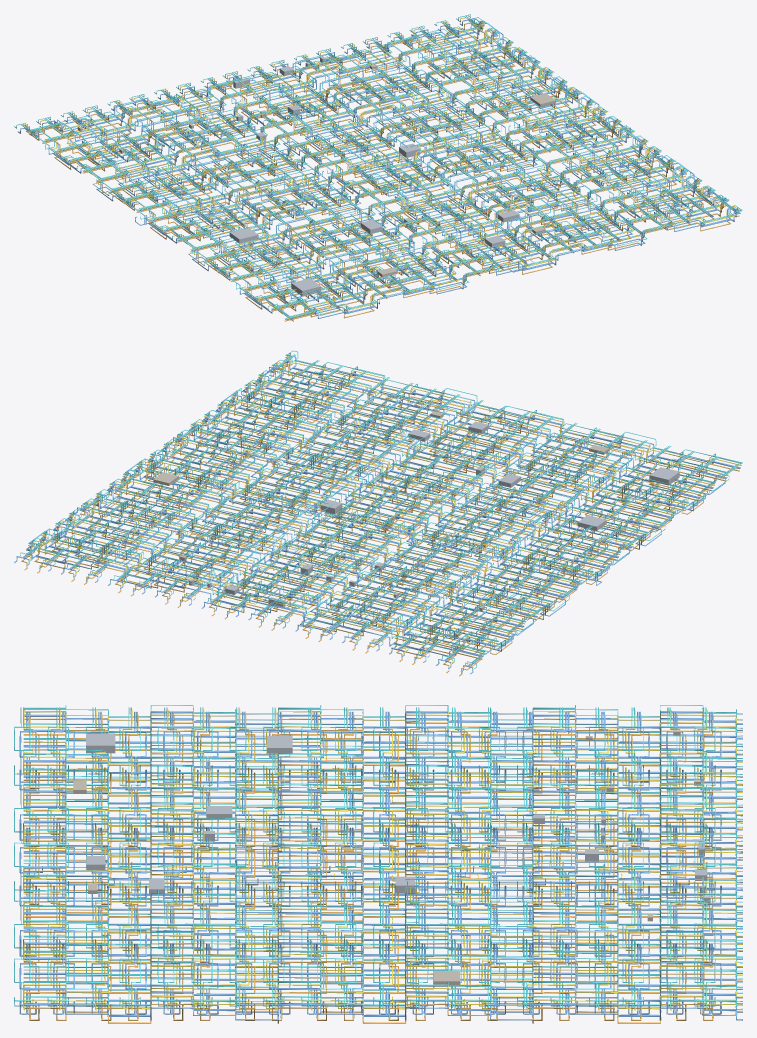
File: intel_city_underground.glb
The picture shows the model from 3 angles, top to bottom: view 1: azimuth 30°, elevation 25°; view 2: azimuth 150°, elevation 25°; view 3: azimuth 270°, elevation 25°; orthographic projection. The views are drawn at different scales.
Parts seen in each view (by area): view 1: UG-SEWER-M001, UG-SEWER-M011, UG-SEWER-M019, UG-WATER-M001, UG-SEWER-M005, UG-SEWER-M015, UG-WATER-M015, UG-WATER-M021, UG-WATER-M003, UG-WATER-M035, UG-WATER-M027, UG-WATER-M007 (+130 smaller); view 2: UG-WATER-M040, UG-WATER-M028, UG-SEWER-M020, UG-ELEC-M007, UG-WATER-M016, UG-WATER-M012, UG-ELEC-M004, UG-ELEC-M010, UG-ELEC-M018, UG-WATER-M027, UG-WATER-M036, UG-WATER-M032 (+123 smaller); view 3: UG-WATER-F080, UG-ELEC-F035, UG-WATER-F068, UG-WATER-F070, UG-WATER-F076, UG-WATER-F053, UG-WATER-F052, UG-WATER-F078, UG-WATER-F055, UG-ELEC-F024, UG-WATER-F075, UG-WATER-F077 (+219 smaller).
Part boxes in pixels (x1,y1,x2,y2): UG-SEWER-M001: (284, 209, 739, 321); UG-SEWER-M011: (150, 109, 604, 222); UG-SEWER-M019: (42, 30, 497, 143); UG-WATER-M001: (285, 207, 740, 319); UG-SEWER-M005: (230, 168, 685, 281); UG-SEWER-M015: (96, 70, 550, 183); UG-WATER-M015: (191, 140, 646, 250); UG-WATER-M021: (151, 108, 605, 221); UG-WATER-M003: (272, 199, 726, 310); UG-WATER-M035: (56, 41, 511, 152); UG-WATER-M027: (110, 81, 565, 191); UG-WATER-M007: (245, 179, 700, 290); UG-WATER-M040: (26, 546, 482, 657); UG-WATER-M028: (107, 486, 563, 597); UG-SEWER-M020: (25, 546, 482, 659); UG-ELEC-M007: (204, 414, 660, 525); UG-WATER-M016: (189, 427, 645, 538); UG-WATER-M012: (215, 407, 672, 518); UG-ELEC-M004: (244, 382, 701, 495); UG-ELEC-M010: (163, 441, 619, 554); UG-ELEC-M018: (55, 520, 511, 634); UG-WATER-M027: (112, 483, 564, 597); UG-WATER-M036: (53, 526, 509, 637); UG-WATER-M032: (80, 506, 536, 617); UG-WATER-F080: (24, 1004, 742, 1020); UG-ELEC-F035: (23, 923, 742, 936); UG-WATER-F068: (24, 913, 742, 929); UG-WATER-F070: (23, 924, 742, 940); UG-WATER-F076: (23, 973, 742, 989); UG-WATER-F053: (24, 805, 742, 821); UG-WATER-F052: (24, 791, 742, 807); UG-WATER-F078: (23, 985, 742, 1001); UG-WATER-F055: (23, 817, 742, 833); UG-ELEC-F024: (23, 753, 742, 766); UG-WATER-F075: (23, 969, 742, 985); UG-WATER-F077: (23, 987, 742, 1004).
Size of the model in its own units: 4328 by 167 by 4464.
